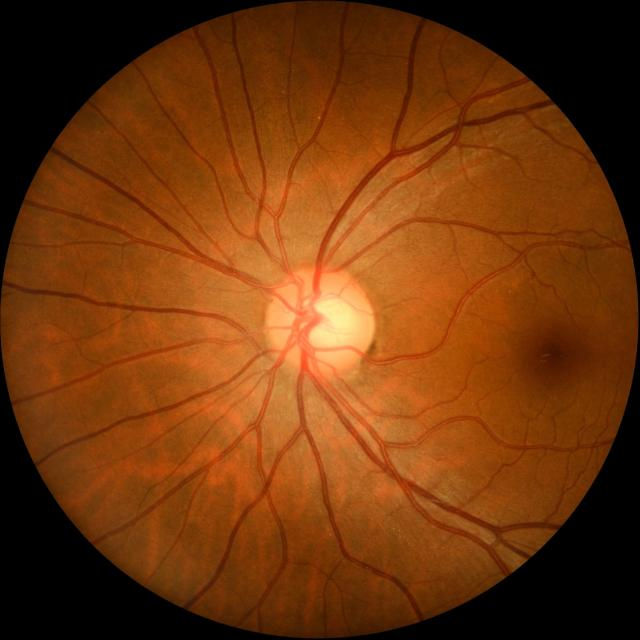OC: (299, 296, 353, 350)
OD: (267, 270, 373, 374)
